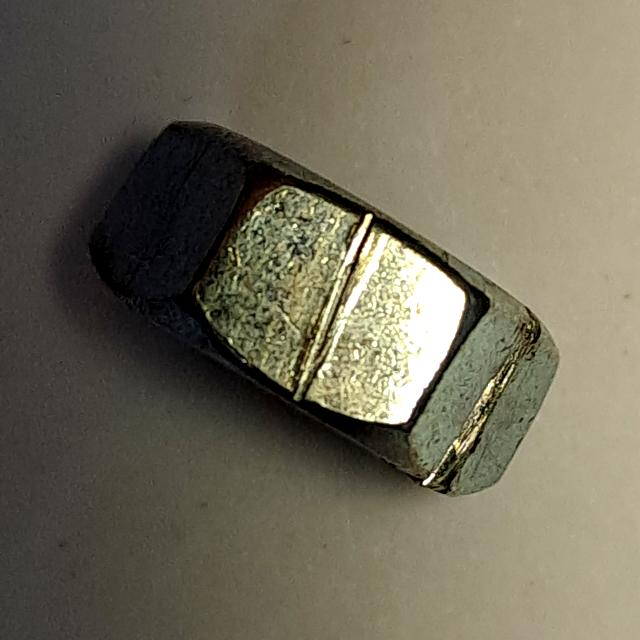Side_Scratches: (76, 96, 575, 516)
